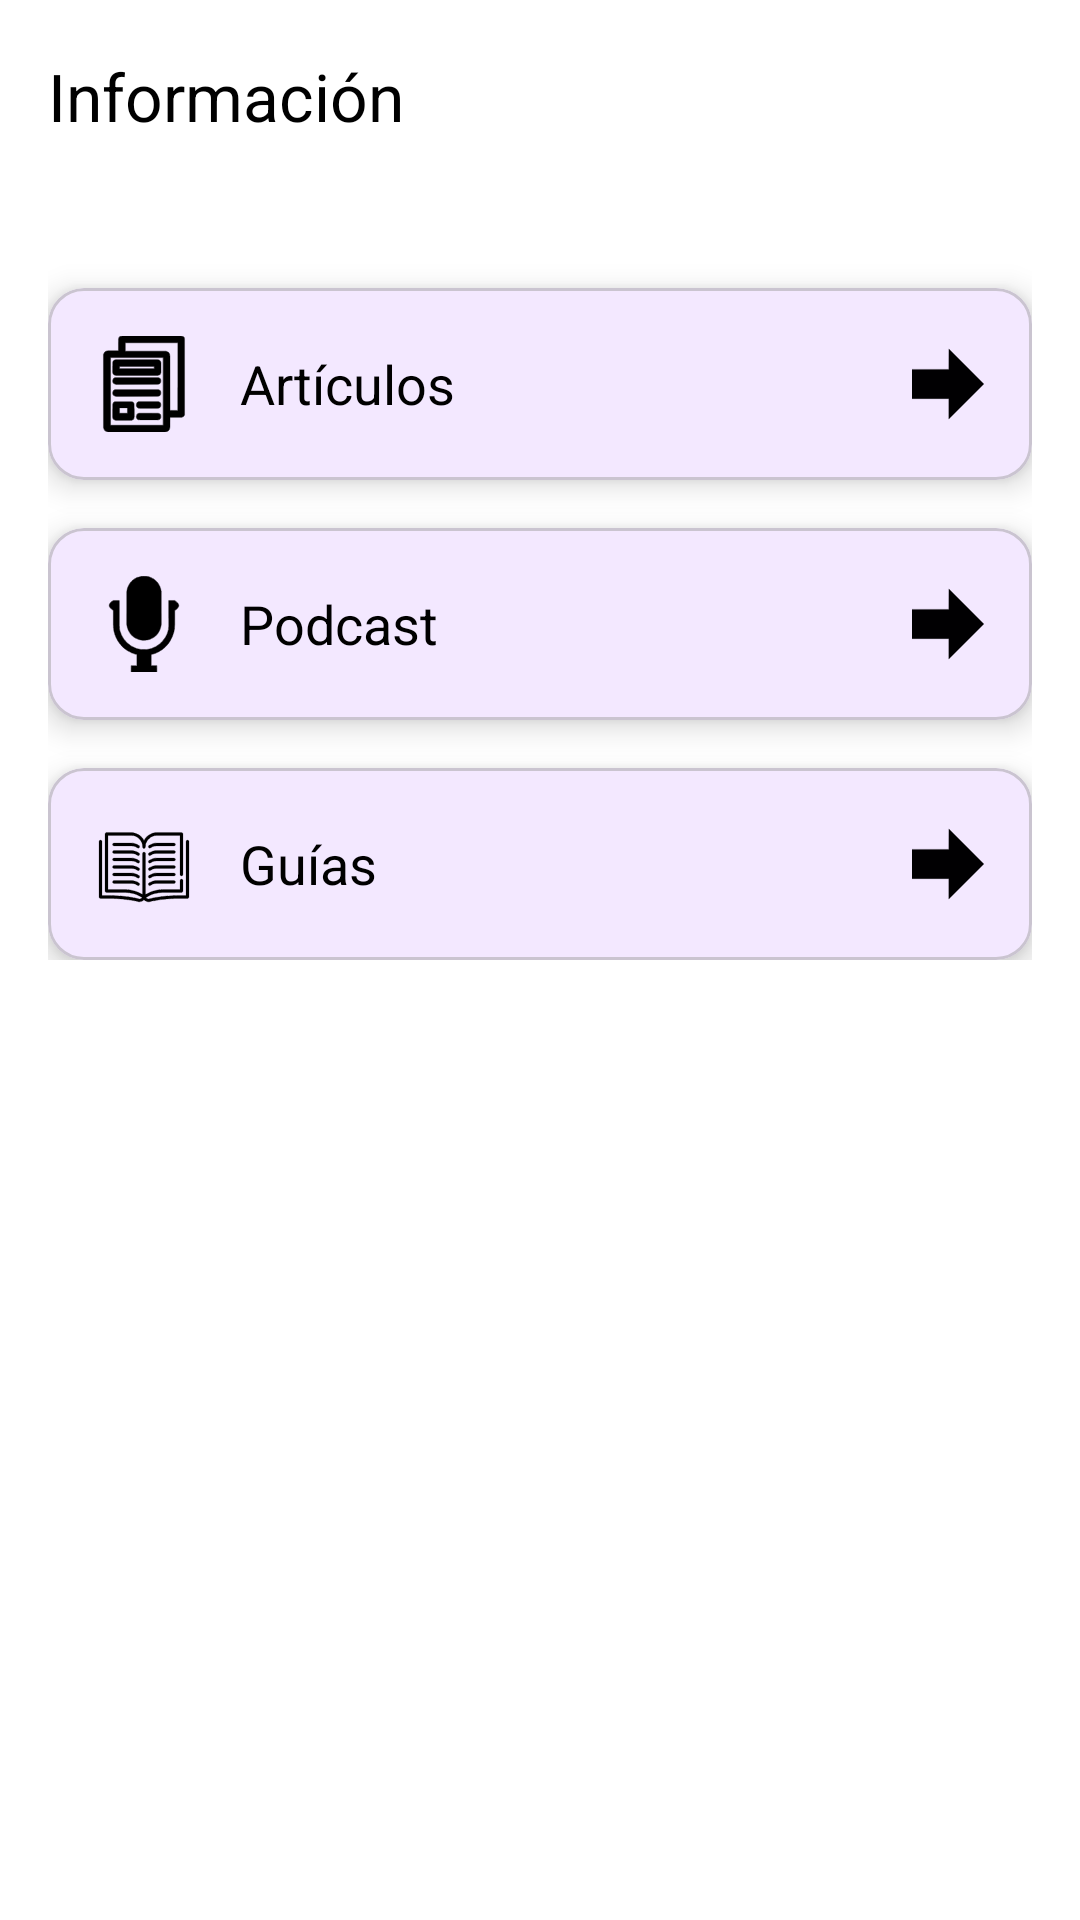

Where to tap for icons on this 1080x1920 app screen, as (x,y):
Ir: (948,384), (948,624), (948,864)
